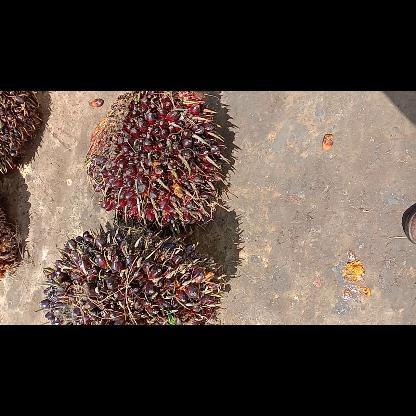TBS mentah: (87, 90, 225, 228), (38, 228, 222, 324), (1, 91, 41, 183)
